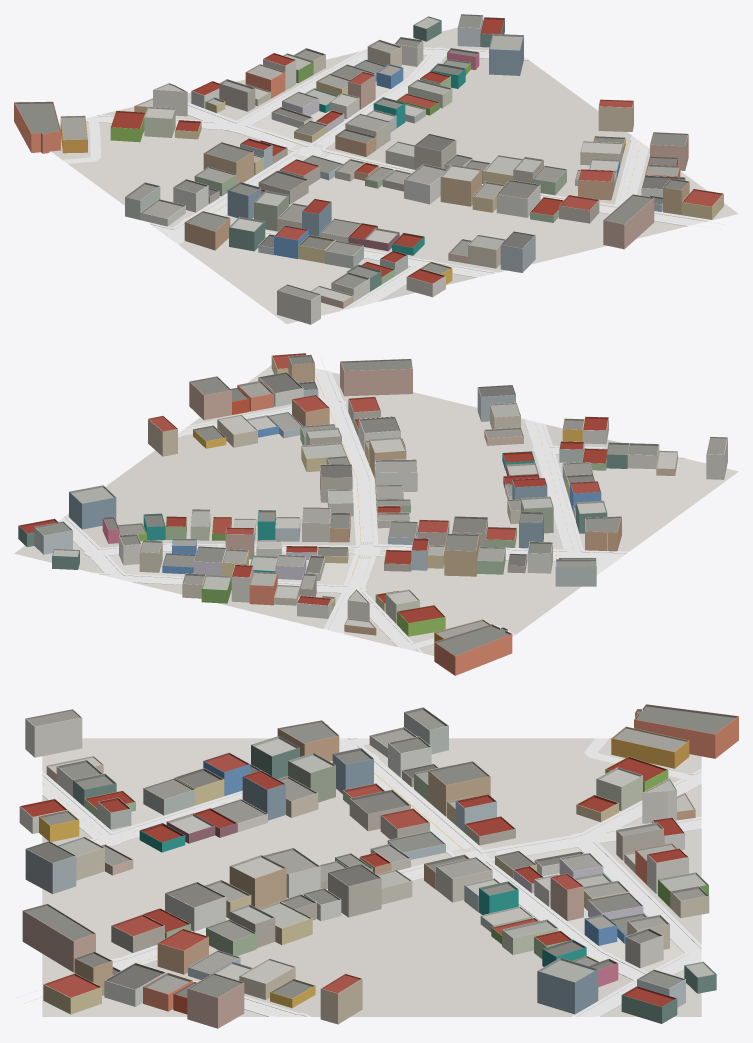
3 views of the same model, one above another, from view 1: azimuth 30°, elevation 25°; view 2: azimuth 150°, elevation 25°; view 3: azimuth 270°, elevation 25° (orthographic). The views are drawn at different scales.
Visible parts, largest first — view 1: ground, walls, roofs, asphalt, sidewalk; view 2: ground, walls, roofs, asphalt, sidewalk, markings; view 3: walls, ground, roofs, asphalt, sidewalk.
Part boxes in pixels (x1=…): ground: x1=51, y1=27, x2=738, y2=323; walls: x1=14, y1=16, x2=723, y2=324; roofs: x1=14, y1=14, x2=723, y2=301; asphalt: x1=62, y1=49, x2=706, y2=309; sidewalk: x1=86, y1=42, x2=711, y2=310; ground: x1=14, y1=365, x2=738, y2=655; walls: x1=18, y1=356, x2=727, y2=675; roofs: x1=18, y1=353, x2=727, y2=656; asphalt: x1=58, y1=368, x2=626, y2=652; sidewalk: x1=64, y1=370, x2=684, y2=652; markings: x1=187, y1=358, x2=573, y2=629; walls: x1=19, y1=712, x2=738, y2=1028; ground: x1=42, y1=738, x2=701, y2=1016; roofs: x1=20, y1=704, x2=738, y2=1007; asphalt: x1=42, y1=738, x2=701, y2=1016; sidewalk: x1=42, y1=738, x2=701, y2=1016.
Size of what is drawn, in the model's own units: 269 by 13.37 by 275.
